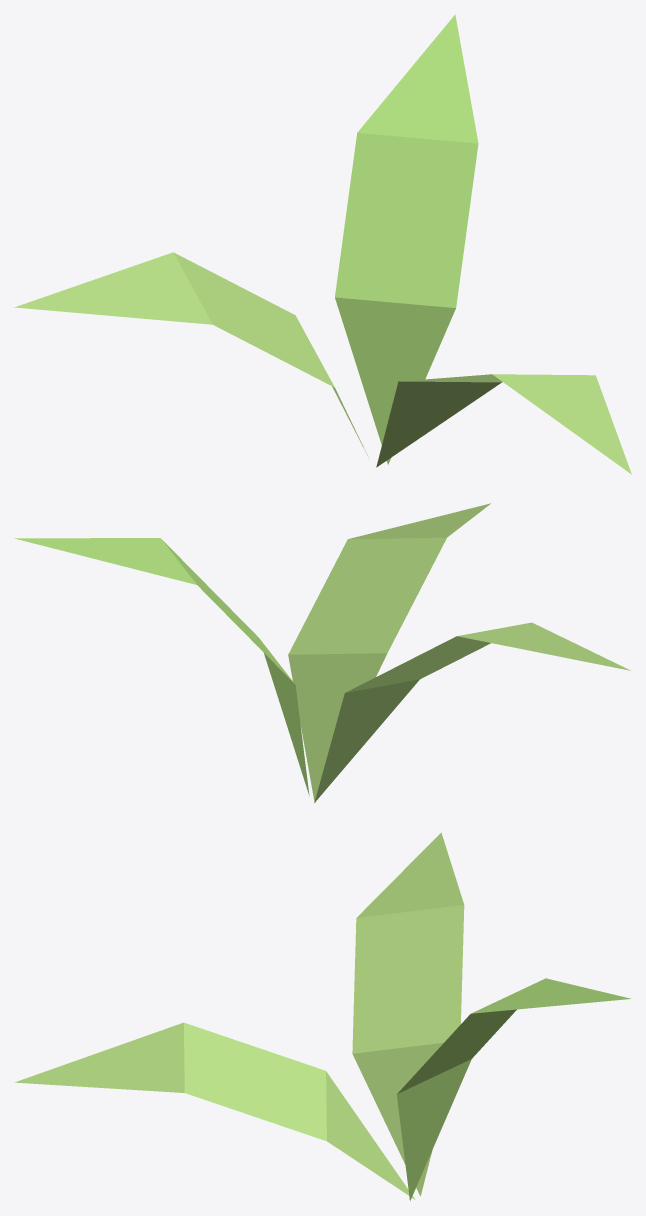
Rendered from Plant_b_OneS_04.fbx.
The picture shows the model from 3 angles, top to bottom: view 1: azimuth 30°, elevation 25°; view 2: azimuth 150°, elevation 25°; view 3: azimuth 270°, elevation 25°; orthographic projection. The views are drawn at different scales.
Visible parts, largest first — view 1: Plant_b_OneS_04; view 2: Plant_b_OneS_04; view 3: Plant_b_OneS_04.
Part boxes in pixels (x1,y1,x2,y2): Plant_b_OneS_04: (14, 14, 631, 474); Plant_b_OneS_04: (14, 503, 630, 803); Plant_b_OneS_04: (14, 832, 631, 1200).
Bounding box in the file's own units: 0.7124 × 0.3966 × 0.768.
